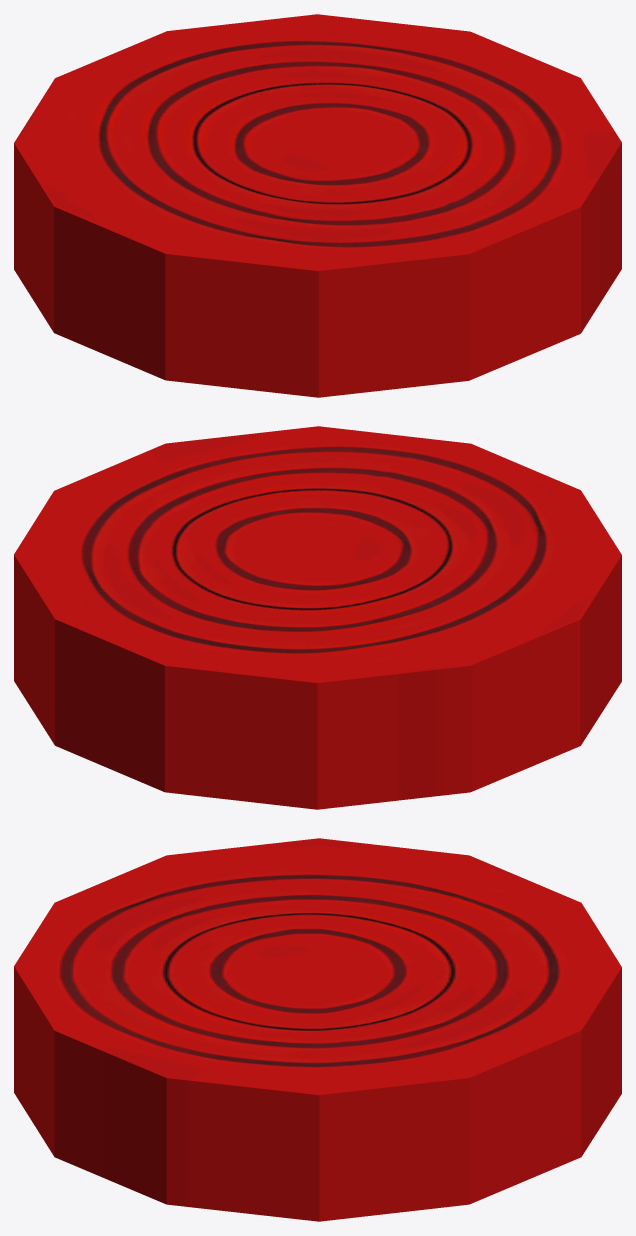
File: InvTube.glb
3 views of the same model, one above another, from view 1: azimuth 30°, elevation 25°; view 2: azimuth 150°, elevation 25°; view 3: azimuth 270°, elevation 25° (orthographic).
Visible parts, largest first — view 1: InvTube; view 2: InvTube; view 3: InvTube.
Boxes of the visible parts, x1,y1,x2,y2 form: InvTube: (14,14,621,397); InvTube: (14,426,621,809); InvTube: (14,838,621,1221).
Size of the model in its own units: 12.46 by 2.86 by 12.46.
1 material, 1 textured.
